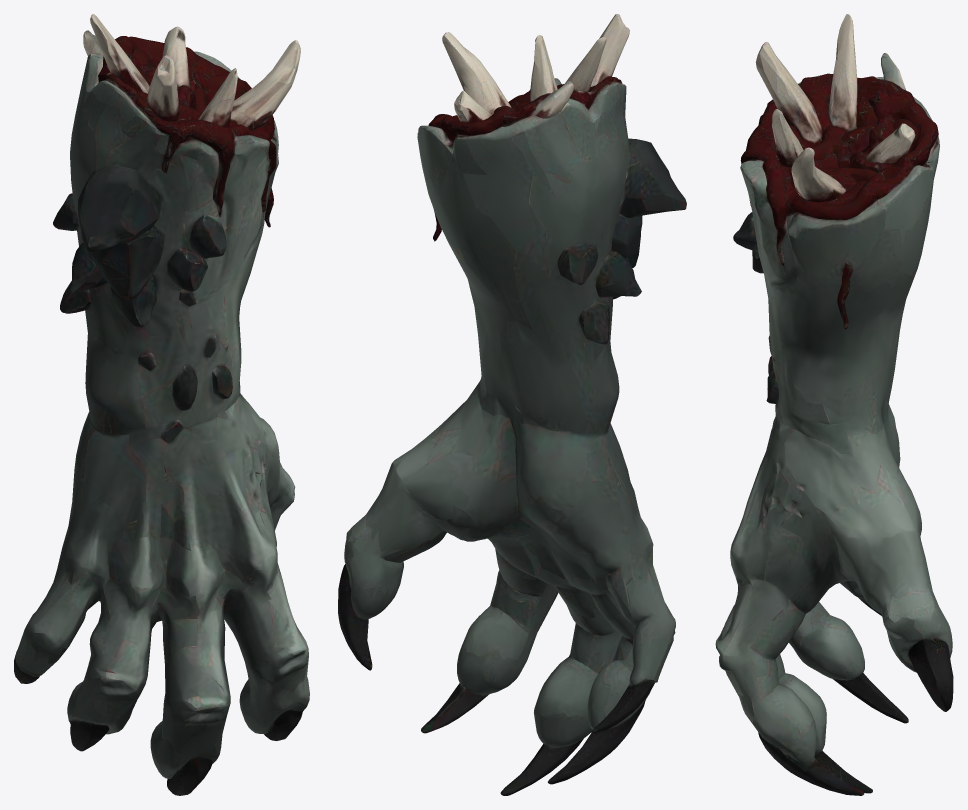
File: arm.glb
3 views of the same model, side by side, from view 1: azimuth 30°, elevation 25°; view 2: azimuth 150°, elevation 25°; view 3: azimuth 270°, elevation 25° (orthographic). The views are drawn at different scales.
Visible parts, largest first — view 1: mesh_node; view 2: mesh_node; view 3: mesh_node.
Part boxes in pixels (x1=…): mesh_node: x1=14, y1=14, x2=309, y2=795; mesh_node: x1=338, y1=14, x2=686, y2=795; mesh_node: x1=715, y1=14, x2=953, y2=795.
Size of the model in its own units: 0.7403 by 1.9 by 0.5549.
1 material, 1 textured.
